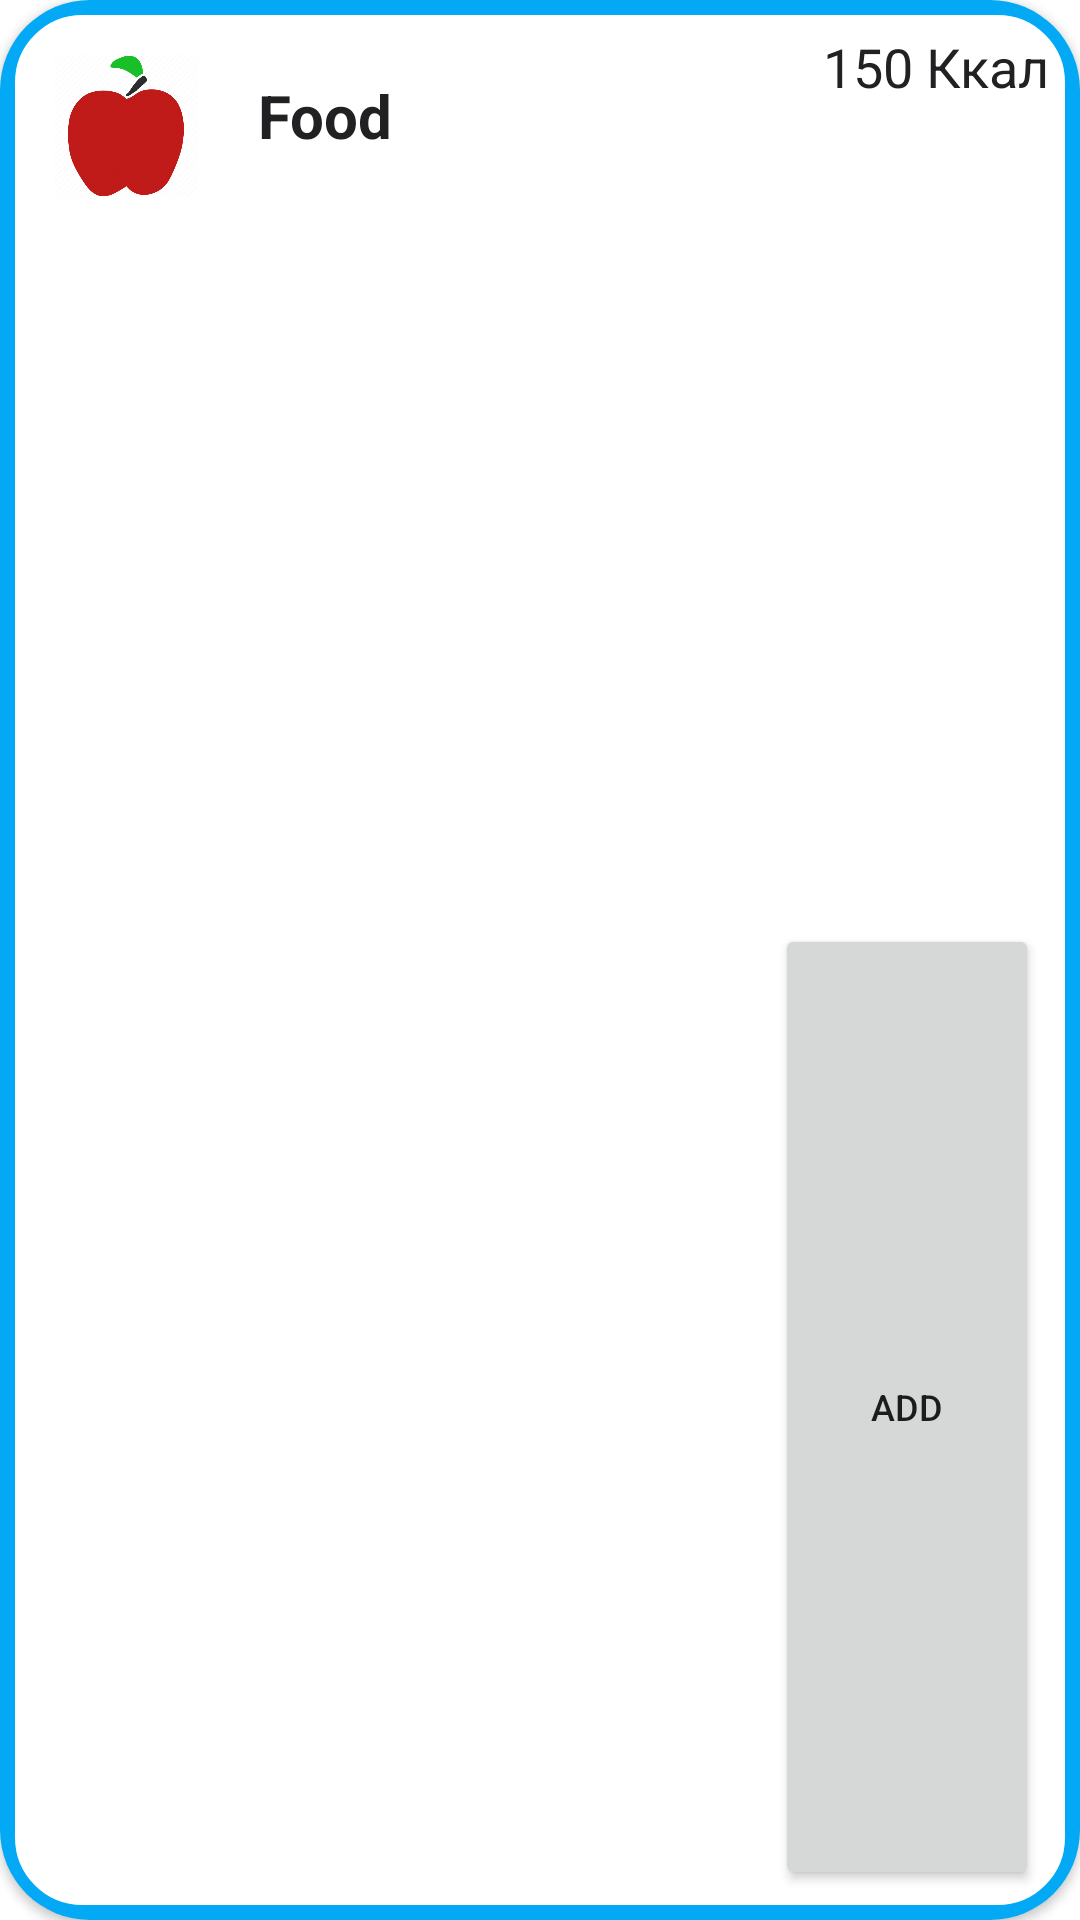

Icons on this 1080×1920 Android screen, each with the point to tap as (x,y):
apple: (126,126)
